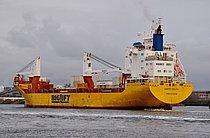Ship: (9, 20, 198, 114)
